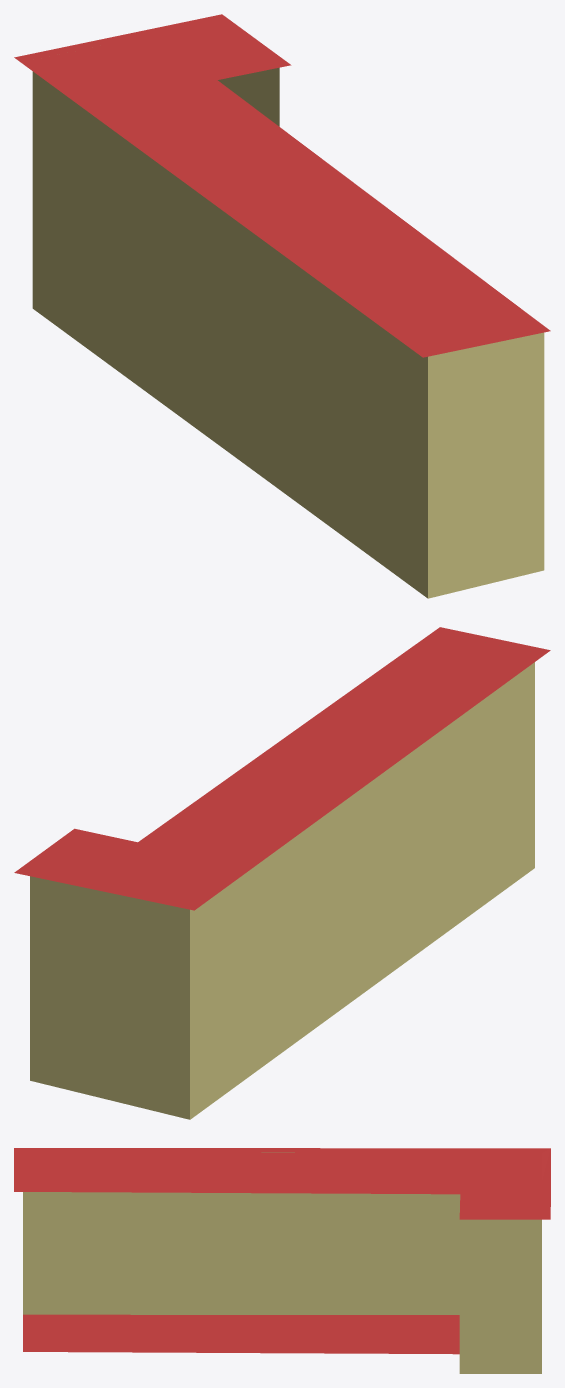
The picture shows the model from 3 angles, top to bottom: view 1: azimuth 30°, elevation 25°; view 2: azimuth 150°, elevation 25°; view 3: azimuth 270°, elevation 25°; orthographic projection. The views are drawn at different scales.
Size of the model in its own units: 4.44 by 15.11 by 5.06.
